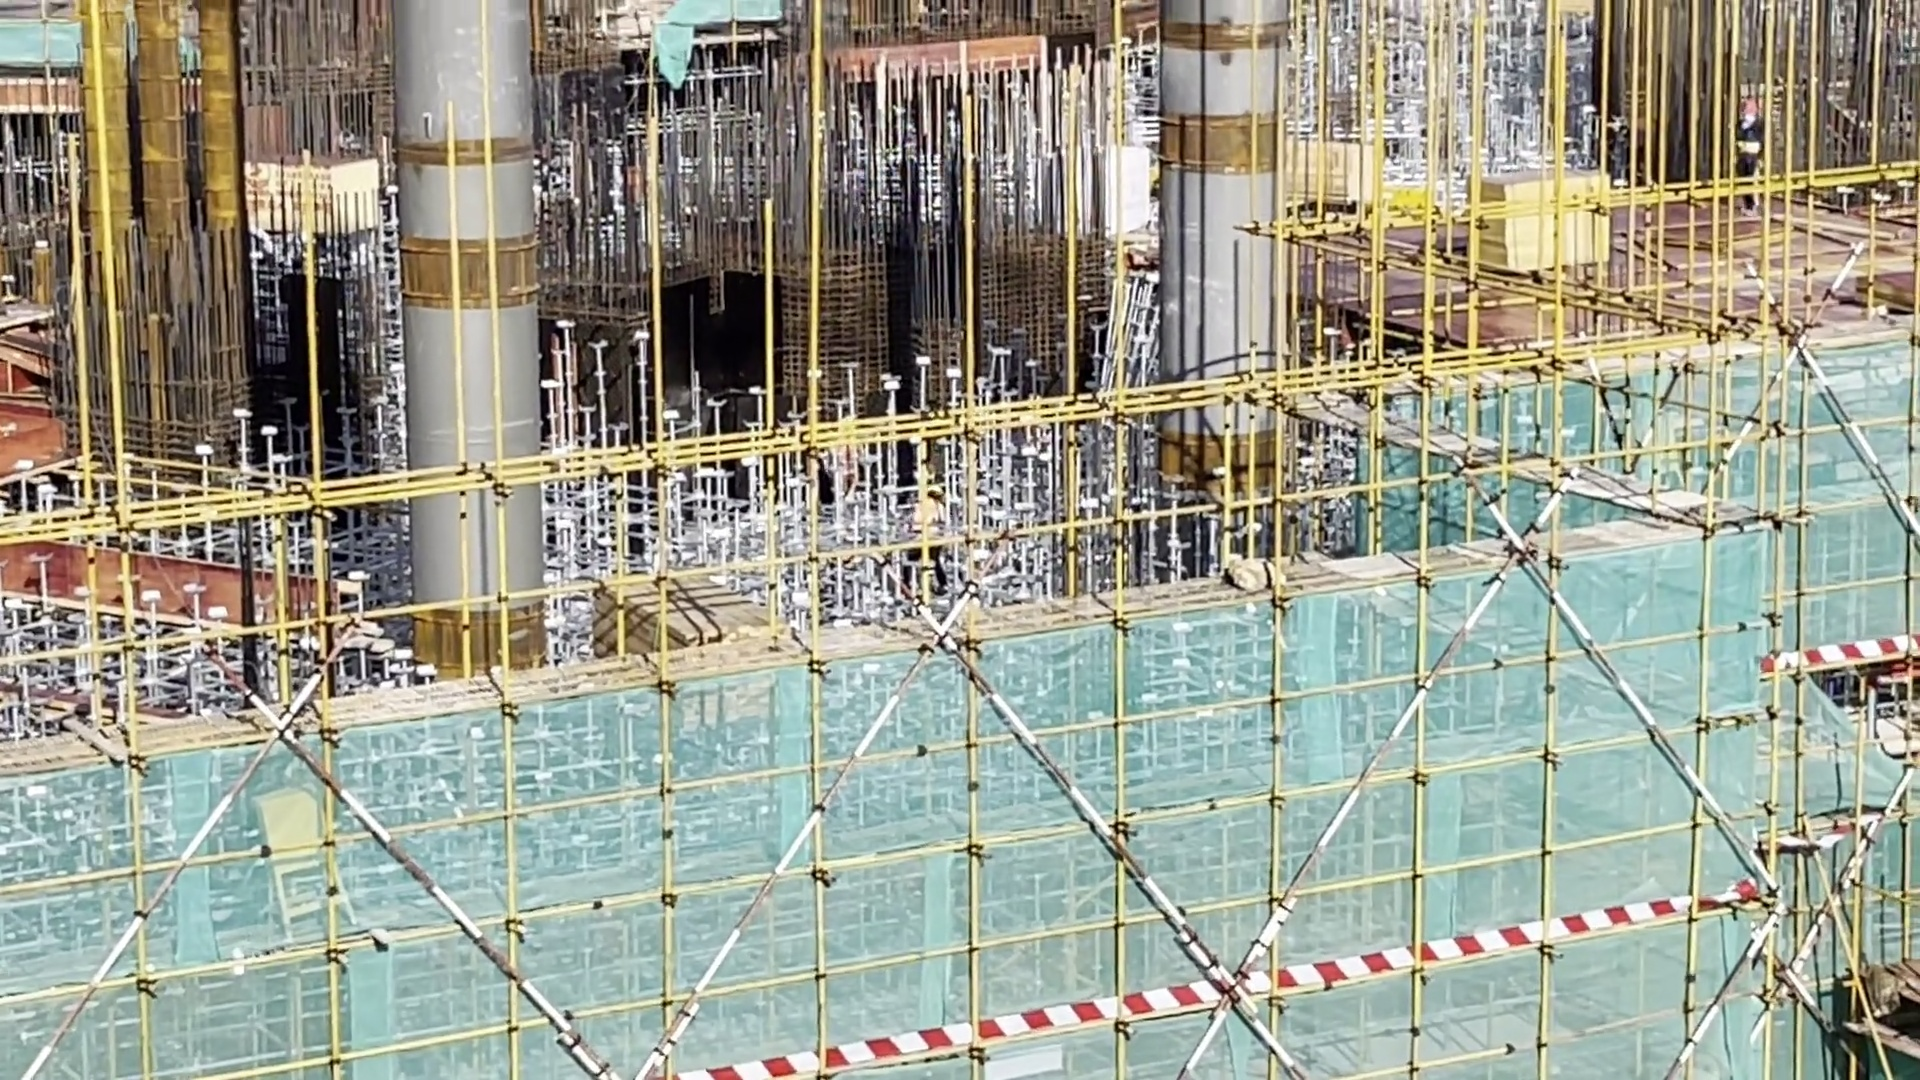person: (1727, 93, 1770, 187)
vest: (1736, 124, 1773, 164)
